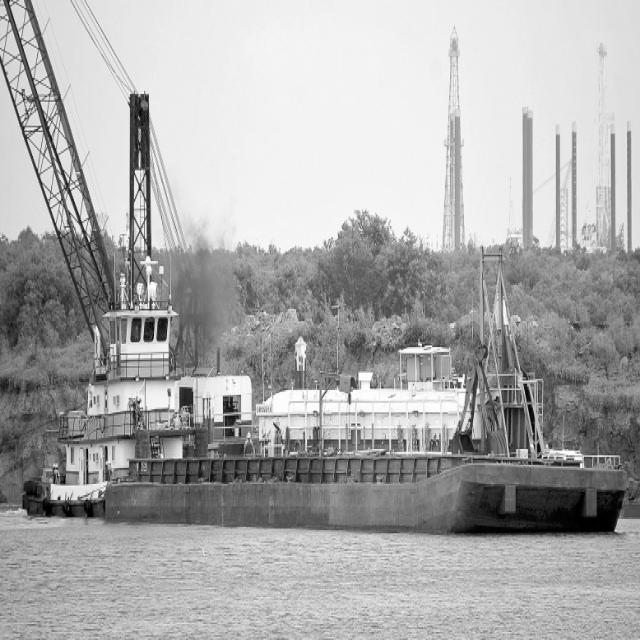tugboat: (20, 253, 254, 530)
